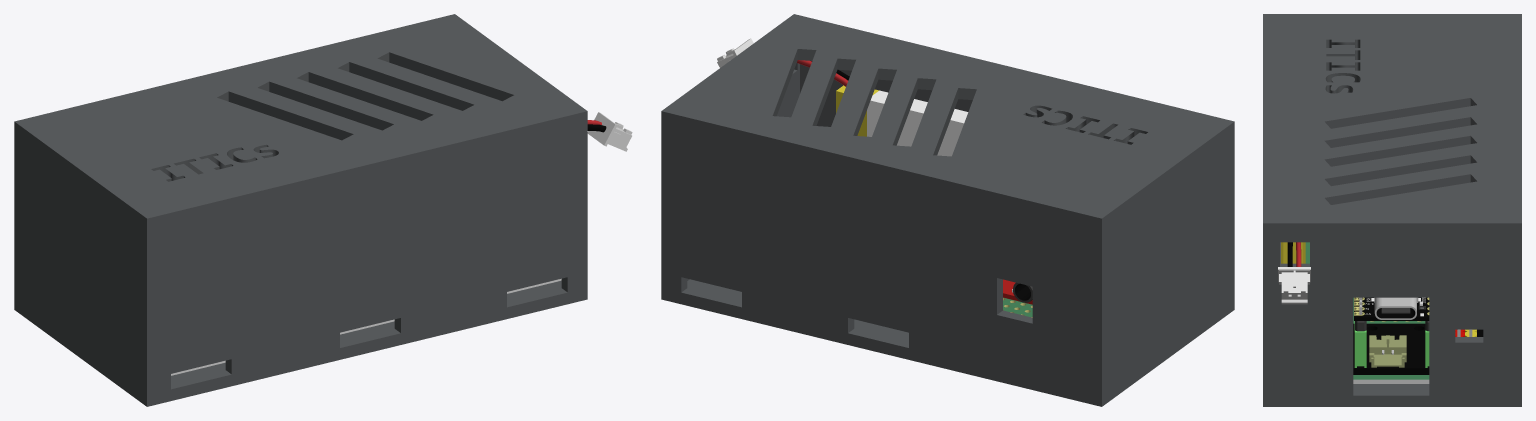
Rendered from PrototypeView.glb.
3 renders of one model, left to right at view 1: azimuth 30°, elevation 25°; view 2: azimuth 150°, elevation 25°; view 3: azimuth 270°, elevation 25°, orthographic. The views are drawn at different scales.
Visible parts, largest first — view 1: Case Lid, Case Body, MLiPo; view 2: Case Lid, Case Body, LiPo Battery; view 3: Case Lid, Case Body, Shield ESP32 C3, FemLiPo, MLiPo, PCB, USB, ESP32 C3, FemPinsLeft, LiPo Battery.
Part boxes in pixels (x1=…): Case Lid: x1=14, y1=14, x2=587, y2=278; Case Body: x1=14, y1=171, x2=587, y2=406; MLiPo: x1=587, y1=112, x2=632, y2=151; Case Lid: x1=661, y1=14, x2=1234, y2=278; Case Body: x1=661, y1=82, x2=1234, y2=406; LiPo Battery: x1=836, y1=85, x2=968, y2=156; Case Lid: x1=1263, y1=14, x2=1521, y2=282; Case Body: x1=1263, y1=242, x2=1521, y2=406; Shield ESP32 C3: x1=1353, y1=323, x2=1483, y2=374; FemLiPo: x1=1369, y1=335, x2=1406, y2=367; MLiPo: x1=1278, y1=267, x2=1310, y2=304; PCB: x1=1305, y1=242, x2=1429, y2=383; USB: x1=1374, y1=297, x2=1416, y2=319; ESP32 C3: x1=1354, y1=297, x2=1429, y2=320; FemPinsLeft: x1=1354, y1=321, x2=1366, y2=367; LiPo Battery: x1=1281, y1=242, x2=1305, y2=263.
Bounding box in the file's own units: 22.3 × 8.09 × 10.34.
